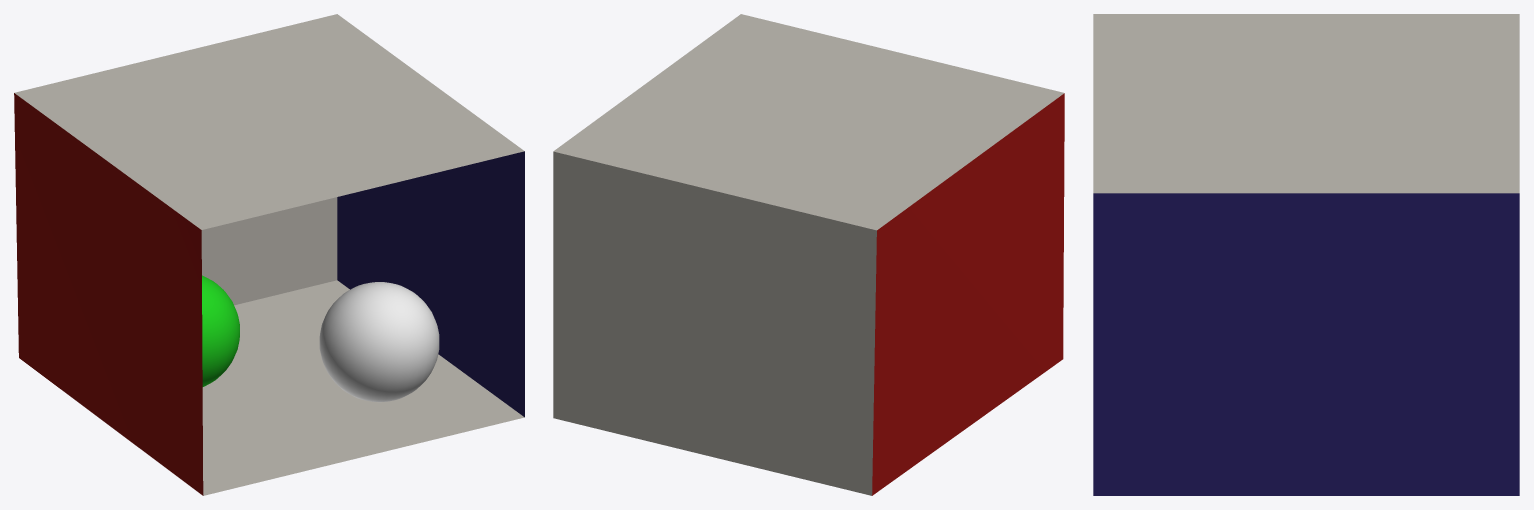
3 renders of one model, left to right at view 1: azimuth 30°, elevation 25°; view 2: azimuth 150°, elevation 25°; view 3: azimuth 270°, elevation 25°, orthographic. The views are drawn at different scales.
Parts seen in each view (by area): view 1: ceiling, leftWall, floor, rightWall, rightSphere, backWall, leftSphere; view 2: backWall, ceiling, leftWall; view 3: rightWall, ceiling.
Boxes of the visible parts, x1,y1,x2,y2 form: ceiling: (14,14,524,229); leftWall: (14,93,203,495); floor: (202,280,524,495); rightWall: (337,151,524,417); rightSphere: (319,282,439,402); backWall: (201,197,337,305); leftSphere: (202,275,239,386); backWall: (553,151,876,495); ceiling: (553,14,1064,230); leftWall: (872,93,1064,495); rightWall: (1093,193,1519,495); ceiling: (1093,14,1519,193).
Bounding box in the file's own units: 2.02 × 1.59 × 2.03.
